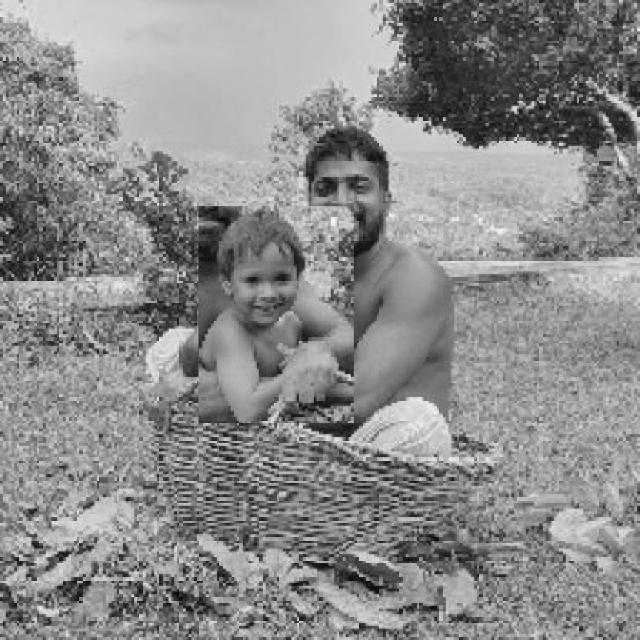child: (196, 206, 353, 425)
